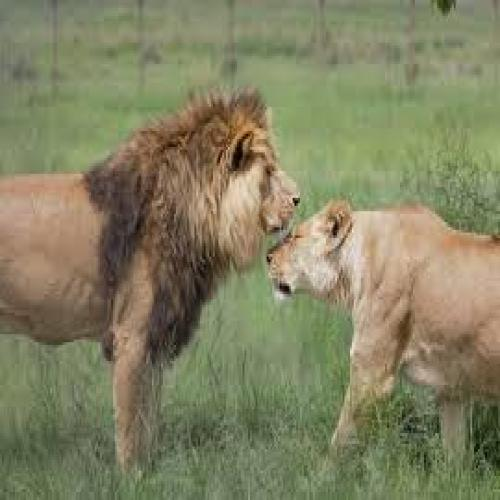lion-endangered: (0, 81, 300, 460), (266, 194, 500, 454)
